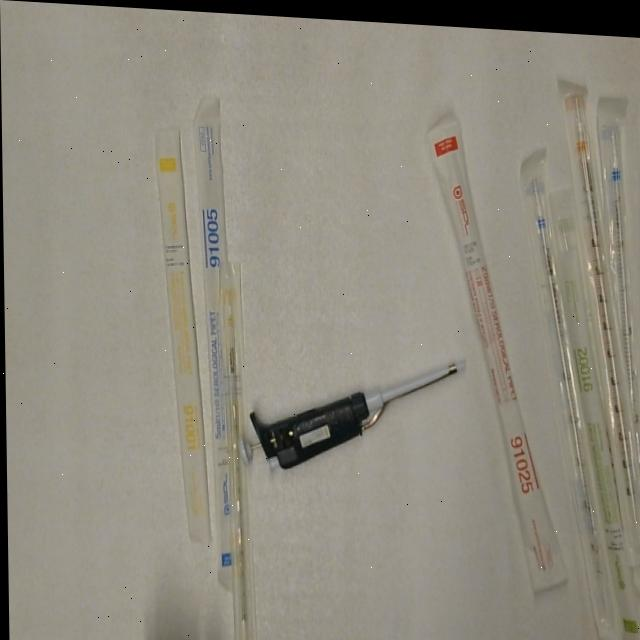Serelogical Pipet 1 mL: (152, 122, 212, 548), (217, 252, 259, 640)
Serelogical Pipet 10 mL: (561, 76, 640, 560)
Serelogical Pipet 2 mL: (554, 247, 640, 640)
Serelogical Pipet 25 mL: (425, 107, 568, 590)
Serelogical Pipet 5 mL: (520, 141, 621, 636), (191, 91, 266, 595), (597, 83, 640, 461)
Single Channel Pipettor: (234, 339, 470, 480)
